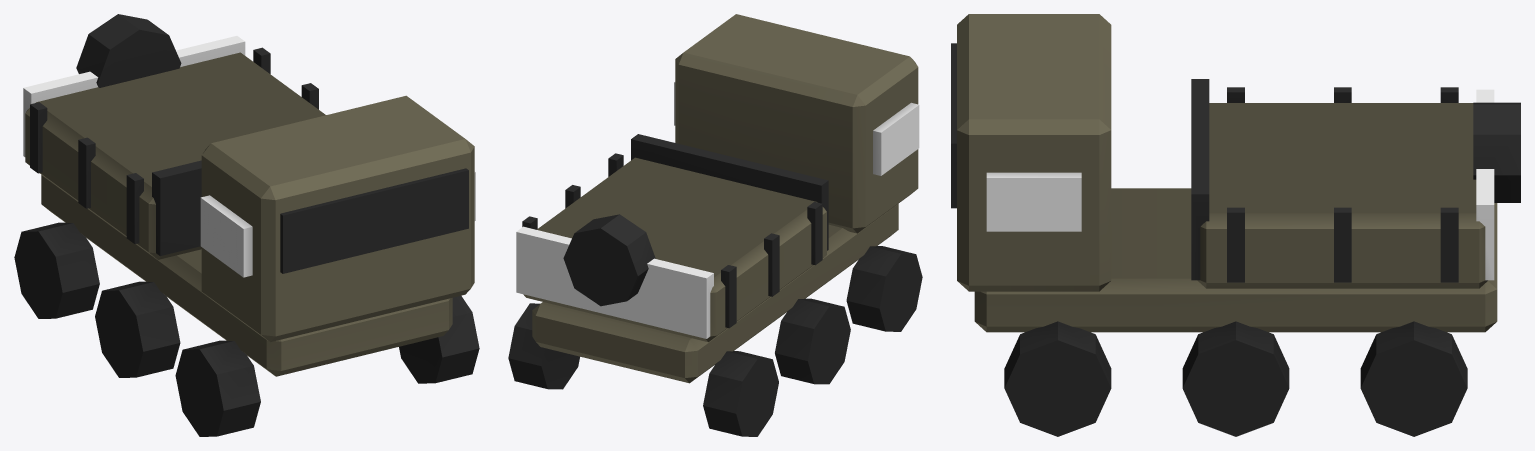
Rendered from ru-supply-truck.glb.
3 renders of one model, left to right at view 1: azimuth 30°, elevation 25°; view 2: azimuth 150°, elevation 25°; view 3: azimuth 270°, elevation 25°, orthographic. The views are drawn at different scales.
Visible parts, largest first — view 1: ru-supply-truck; view 2: ru-supply-truck; view 3: ru-supply-truck.
Part boxes in pixels (bbox=[...]): ru-supply-truck: bbox=[14, 14, 479, 436]; ru-supply-truck: bbox=[508, 14, 922, 436]; ru-supply-truck: bbox=[951, 14, 1520, 436].
Bounding box in the file's own units: 0.55 × 0.56 × 0.96.
